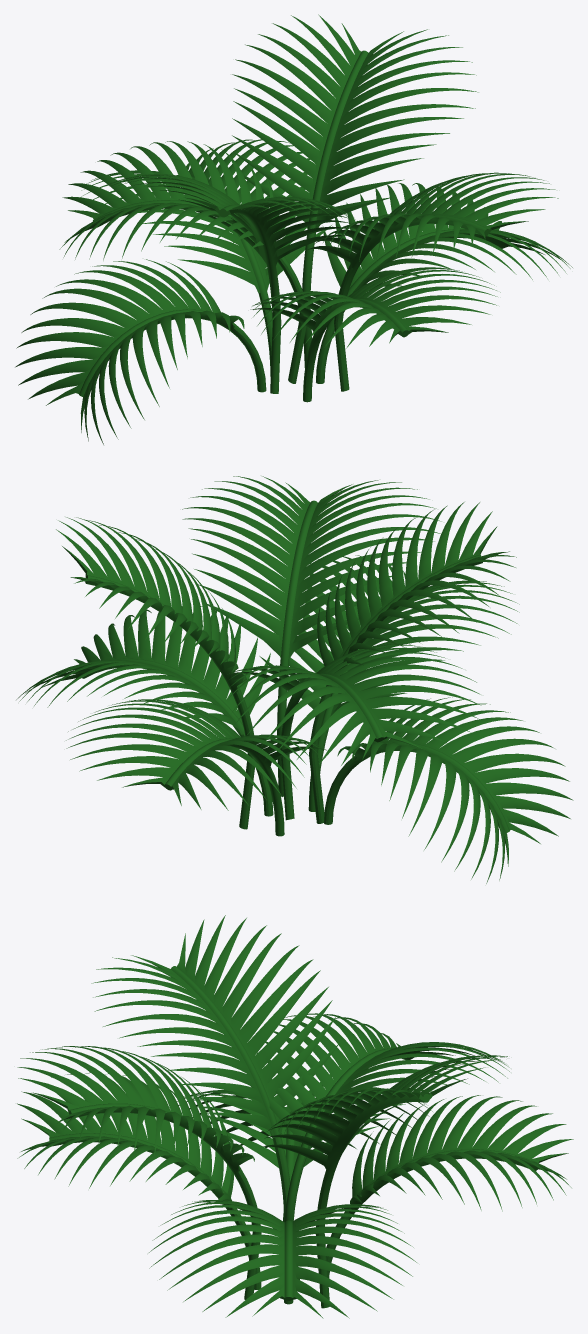
The model's file is plant1.FBX.
The picture shows the model from 3 angles, top to bottom: view 1: azimuth 30°, elevation 25°; view 2: azimuth 150°, elevation 25°; view 3: azimuth 270°, elevation 25°; orthographic projection. The views are drawn at different scales.
Parts seen in each view (by area): view 1: Cylinder009, Cylinder004, Cylinder008, Cylinder007, Cylinder003, Cylinder006, Cylinder002, Cylinder005; view 2: Cylinder007, Cylinder004, Cylinder008, Cylinder006, Cylinder005, Cylinder002, Cylinder009, Cylinder003; view 3: Cylinder006, Cylinder002, Cylinder005, Cylinder007, Cylinder008, Cylinder003, Cylinder009, Cylinder004.
Part boxes in pixels (x1=…): Cylinder009: x1=232, y1=14, x2=478, y2=367; Cylinder004: x1=15, y1=259, x2=266, y2=444; Cylinder008: x1=59, y1=141, x2=308, y2=383; Cylinder007: x1=307, y1=172, x2=558, y2=391; Cylinder003: x1=250, y1=267, x2=500, y2=402; Cylinder006: x1=108, y1=174, x2=355, y2=393; Cylinder002: x1=316, y1=183, x2=572, y2=383; Cylinder005: x1=81, y1=139, x2=331, y2=376; Cylinder007: x1=182, y1=476, x2=441, y2=796; Cylinder004: x1=323, y1=697, x2=573, y2=883; Cylinder008: x1=227, y1=643, x2=481, y2=820; Cylinder006: x1=309, y1=502, x2=516, y2=823; Cylinder005: x1=66, y1=699, x2=326, y2=836; Cylinder002: x1=16, y1=606, x2=273, y2=816; Cylinder009: x1=56, y1=517, x2=255, y2=829; Cylinder003: x1=259, y1=555, x2=519, y2=811; Cylinder006: x1=91, y1=915, x2=339, y2=1221; Cylinder002: x1=149, y1=1200, x2=416, y2=1318; Cylinder005: x1=326, y1=1095, x2=573, y2=1278; Cylinder007: x1=17, y1=1046, x2=261, y2=1299; Cylinder008: x1=250, y1=1013, x2=509, y2=1279; Cylinder003: x1=17, y1=1072, x2=261, y2=1289; Cylinder009: x1=263, y1=1055, x2=507, y2=1308; Cylinder004: x1=177, y1=1087, x2=432, y2=1181.
Size of the model in its own units: 37.51 by 21.19 by 37.16.
1 material, 1 textured.
